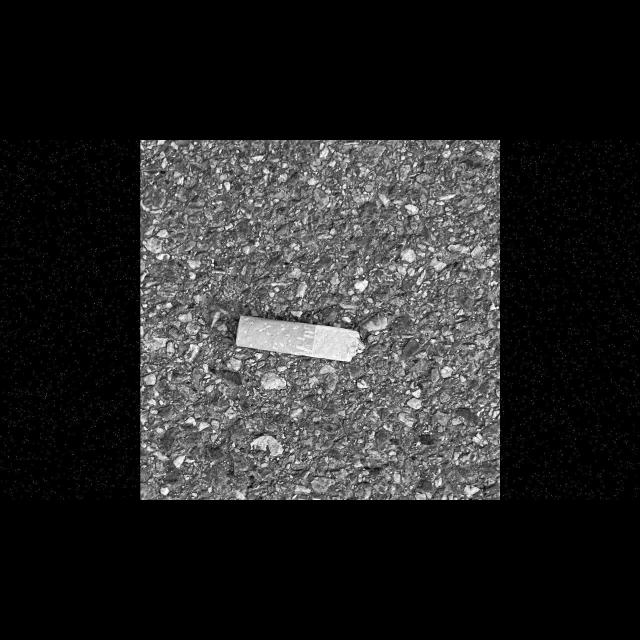cigarette: (234, 314, 367, 362)
